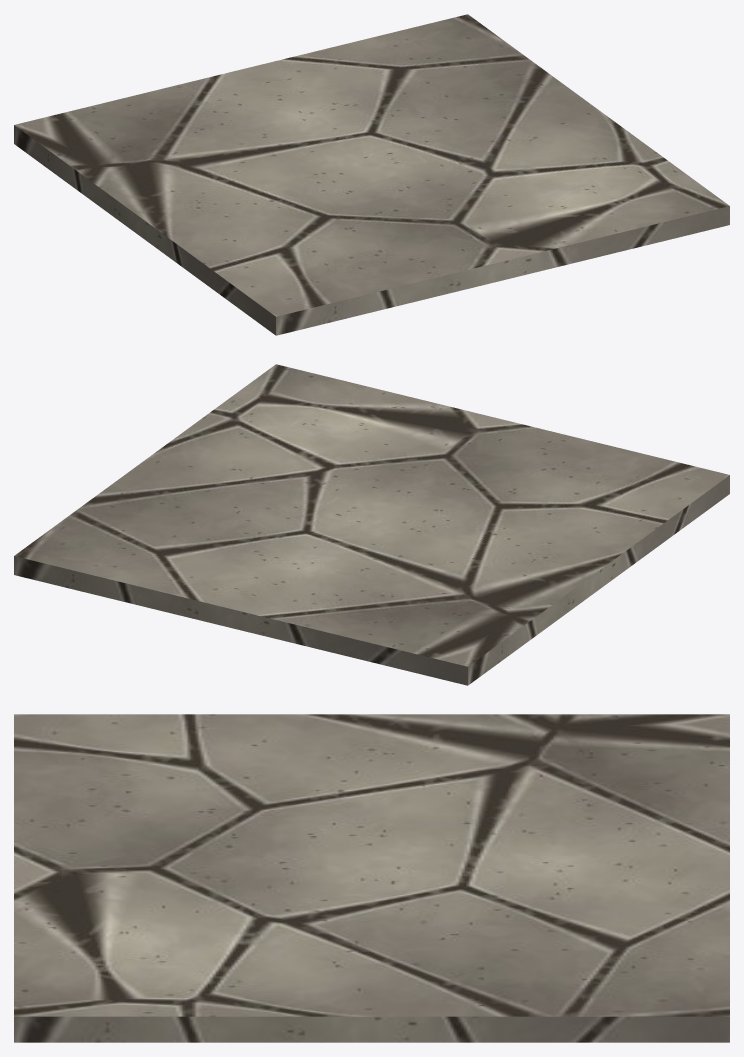
Rendered from interior_floor_flag.glb.
The picture shows the model from 3 angles, top to bottom: view 1: azimuth 30°, elevation 25°; view 2: azimuth 150°, elevation 25°; view 3: azimuth 270°, elevation 25°; orthographic projection. The views are drawn at different scales.
Parts seen in each view (by area): view 1: interior_floor_flag; view 2: interior_floor_flag; view 3: interior_floor_flag.
Part boxes in pixels (box(x1,y1,x2,y2)): interior_floor_flag: box(14, 14, 729, 335); interior_floor_flag: box(14, 364, 729, 685); interior_floor_flag: box(14, 714, 729, 1042).
Size of the model in its own units: 1 by 0.04 by 1.
1 material, 1 textured.
